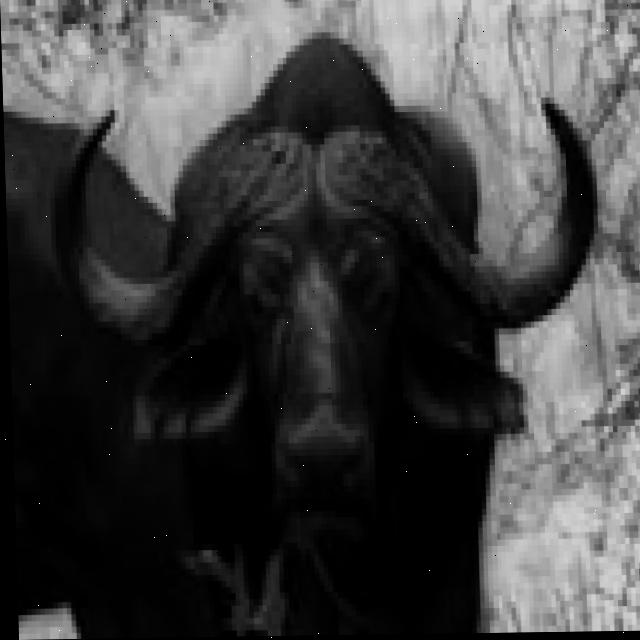Buffalo: (50, 28, 610, 639)
